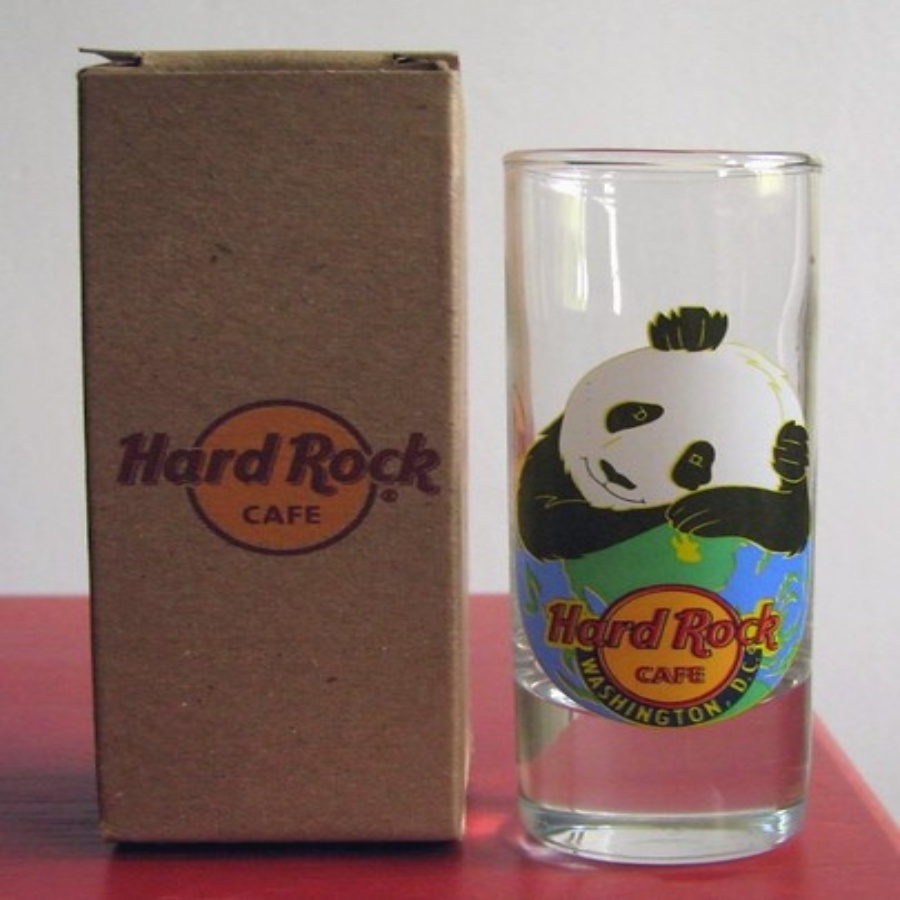whiskey: (502, 148, 822, 847)
